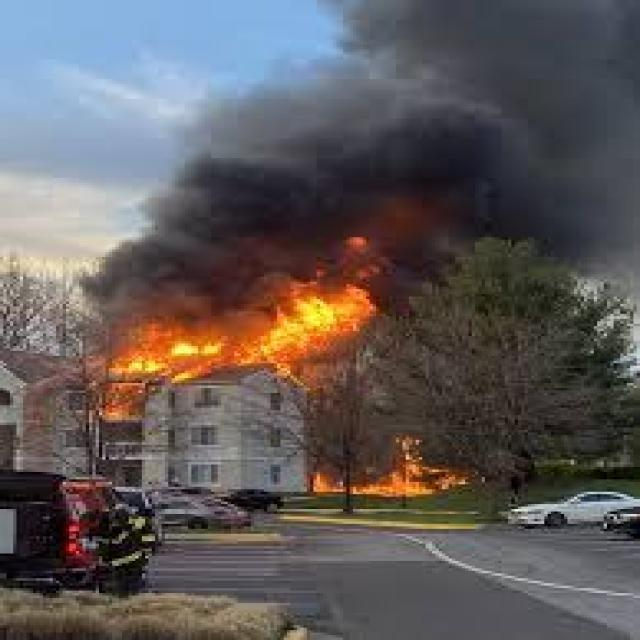Fire: (96, 232, 381, 424), (314, 438, 477, 500)
Smoke: (99, 0, 640, 323)
